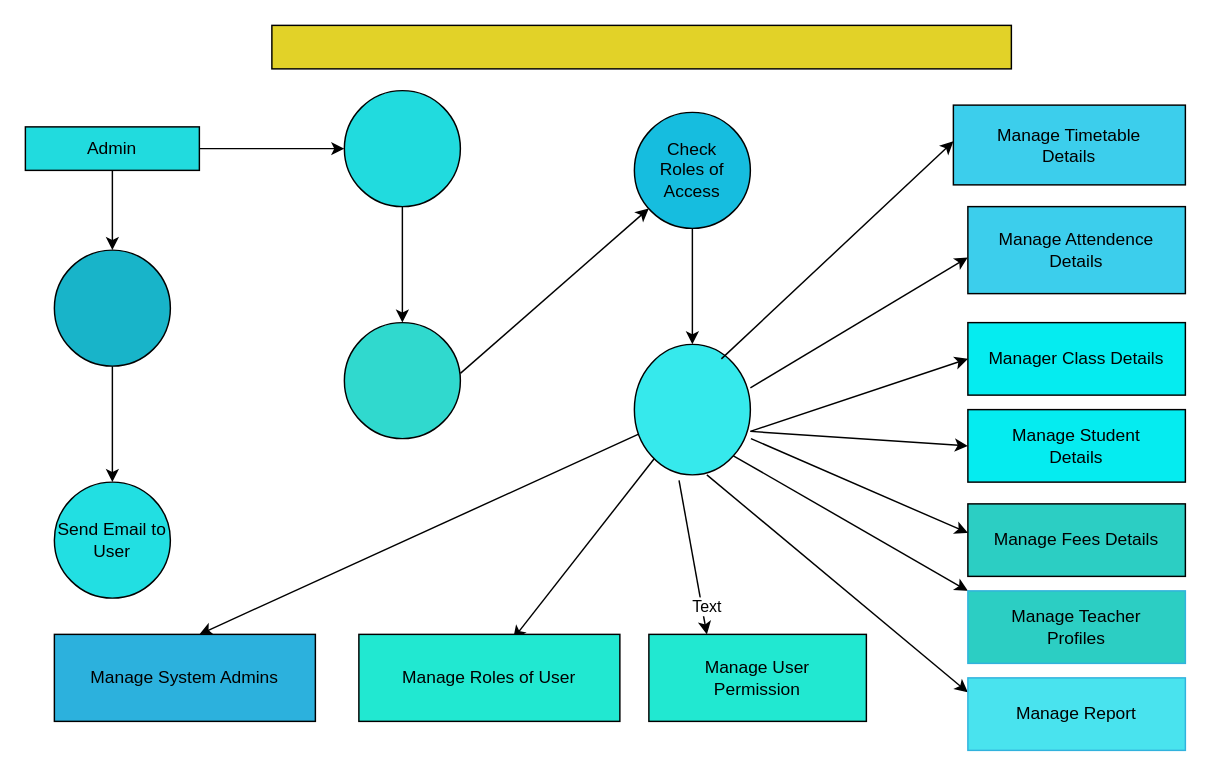
This 1211x776 diagram has some shape labels left out. Each missing label, with the centre of its shape:
Check Credentials: [401,380]
Forget Password: [111,307]
Login to System: [401,148]
Manage Modules: [691,409]
Student Information System: [640,46]
